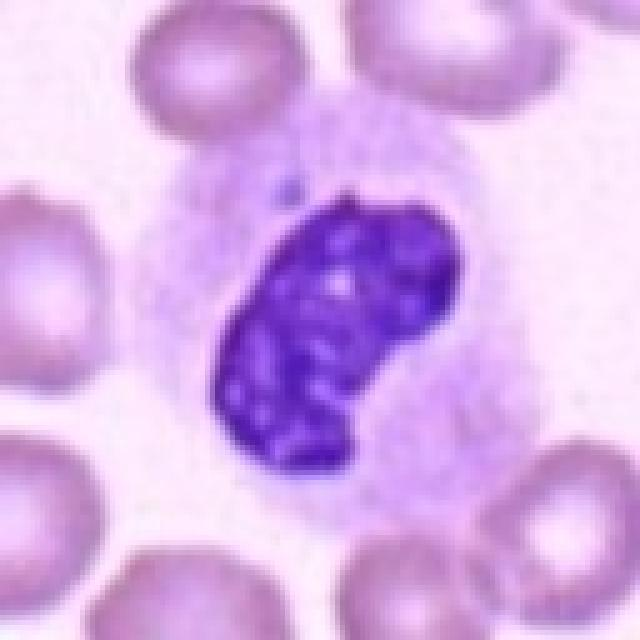neutro: (81, 134, 533, 519)
